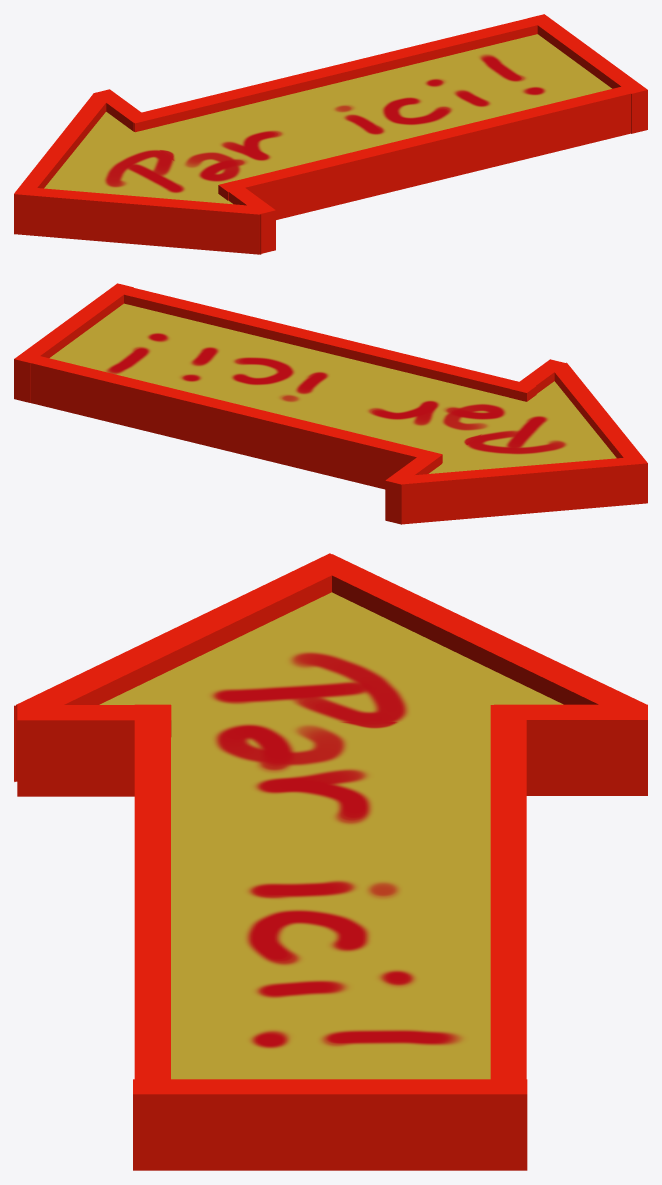
The model's file is arrowleft.glb.
3 views of the same model, one above another, from view 1: azimuth 30°, elevation 25°; view 2: azimuth 150°, elevation 25°; view 3: azimuth 270°, elevation 25° (orthographic). The views are drawn at different scales.
Visible parts, largest first — view 1: Cube; view 2: Cube; view 3: Cube.
Part boxes in pixels (x1,y1,x2,y2): Cube: (14, 14, 647, 254); Cube: (14, 283, 647, 524); Cube: (14, 553, 647, 1170).
Size of the model in its own units: 7.85 by 0.5157 by 3.89.
Materials: 1 (1 with a texture image).
